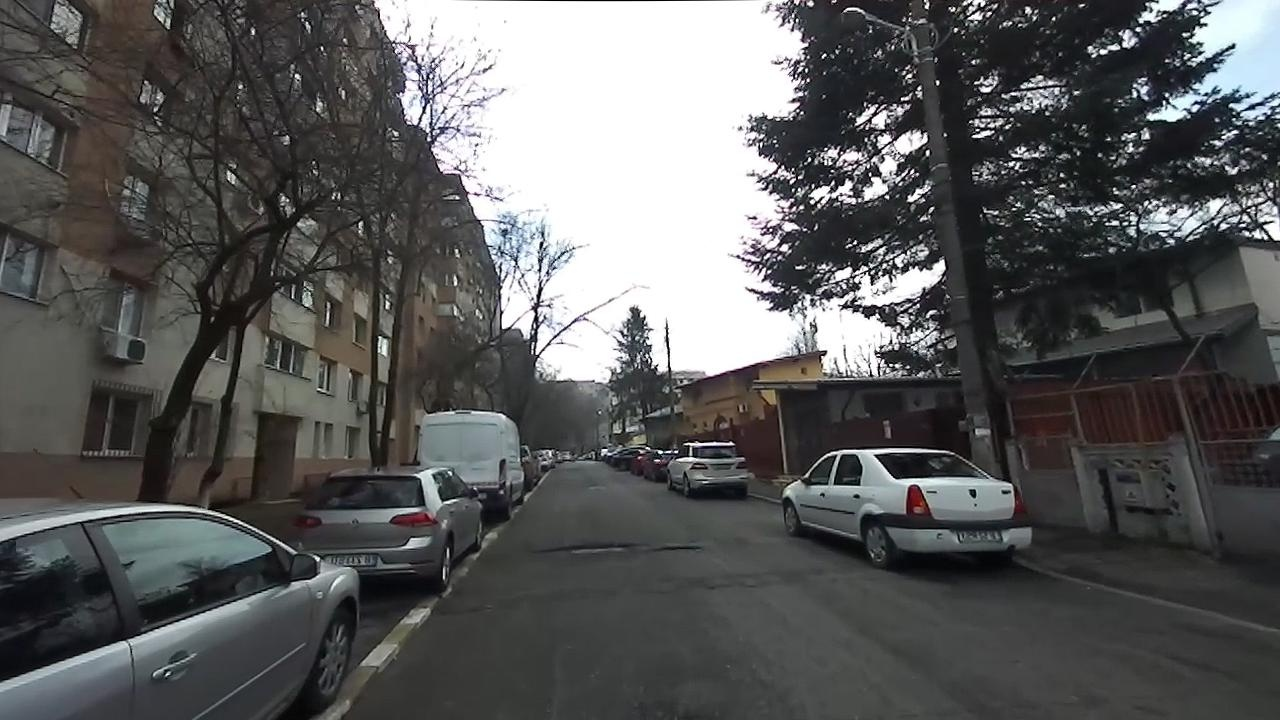pothole: (538, 542, 634, 558), (652, 543, 702, 555)
